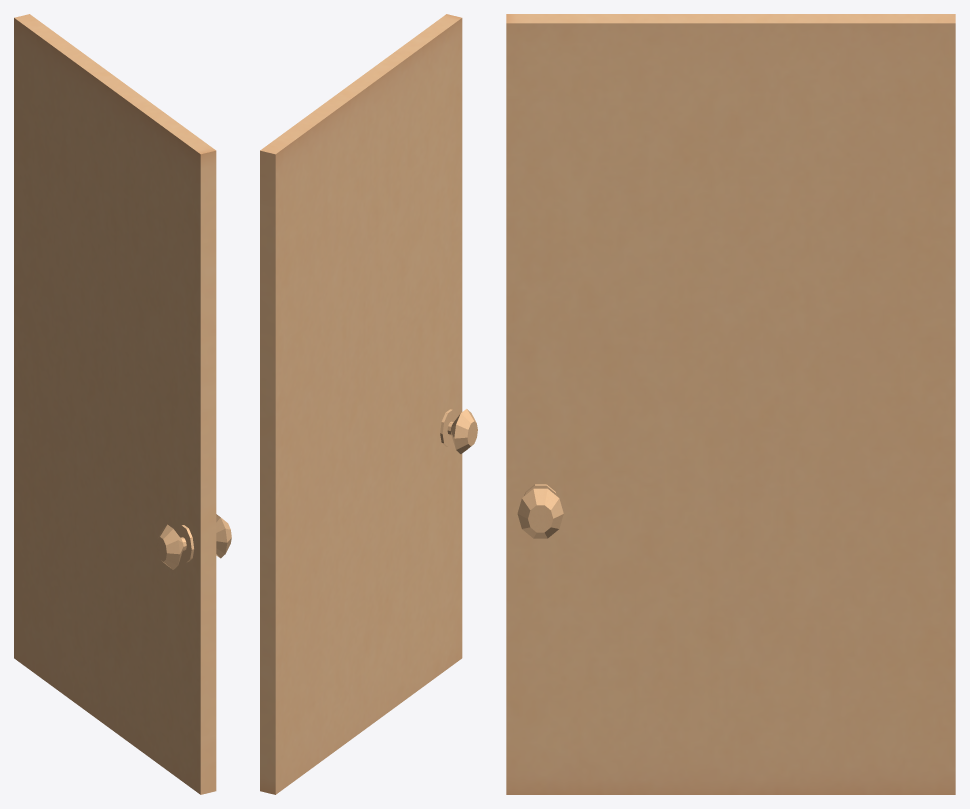
Rendered from Door_Jamb_A.fbx.
3 renders of one model, left to right at view 1: azimuth 30°, elevation 25°; view 2: azimuth 150°, elevation 25°; view 3: azimuth 270°, elevation 25°, orthographic. The views are drawn at different scales.
Visible parts, largest first — view 1: Door_Jamb_A; view 2: Door_Jamb_A; view 3: Door_Jamb_A.
Boxes of the visible parts, x1,y1,x2,y2 form: Door_Jamb_A: [14, 14, 231, 794]; Door_Jamb_A: [260, 14, 477, 794]; Door_Jamb_A: [506, 14, 955, 794].
Bounding box in the file's own units: 0.1973 × 1.86 × 0.9819.
